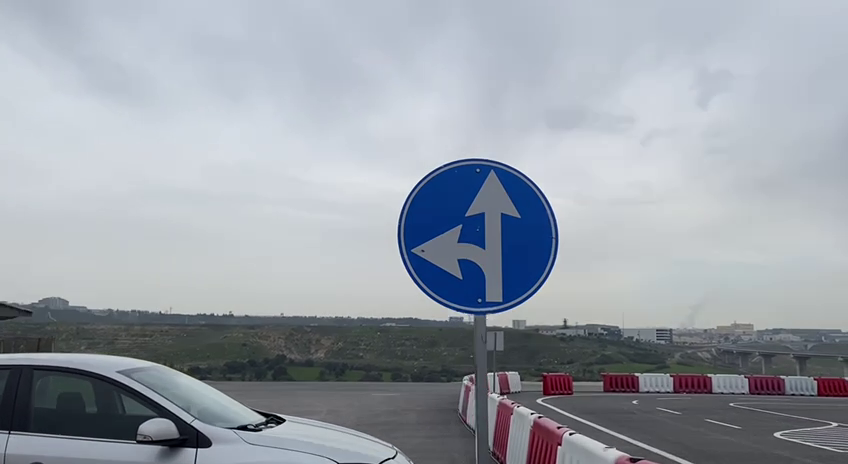forwardAndLeft: (390, 155, 566, 318)
